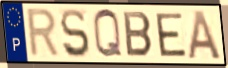A: (186, 9, 223, 61)
B: (122, 9, 155, 59)
E: (154, 12, 188, 59)
Q: (91, 7, 124, 60)
R: (26, 7, 62, 59)
S: (59, 7, 92, 60)
